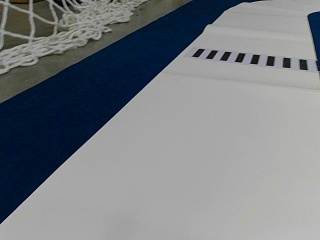crosswalk: (192, 48, 312, 70)
